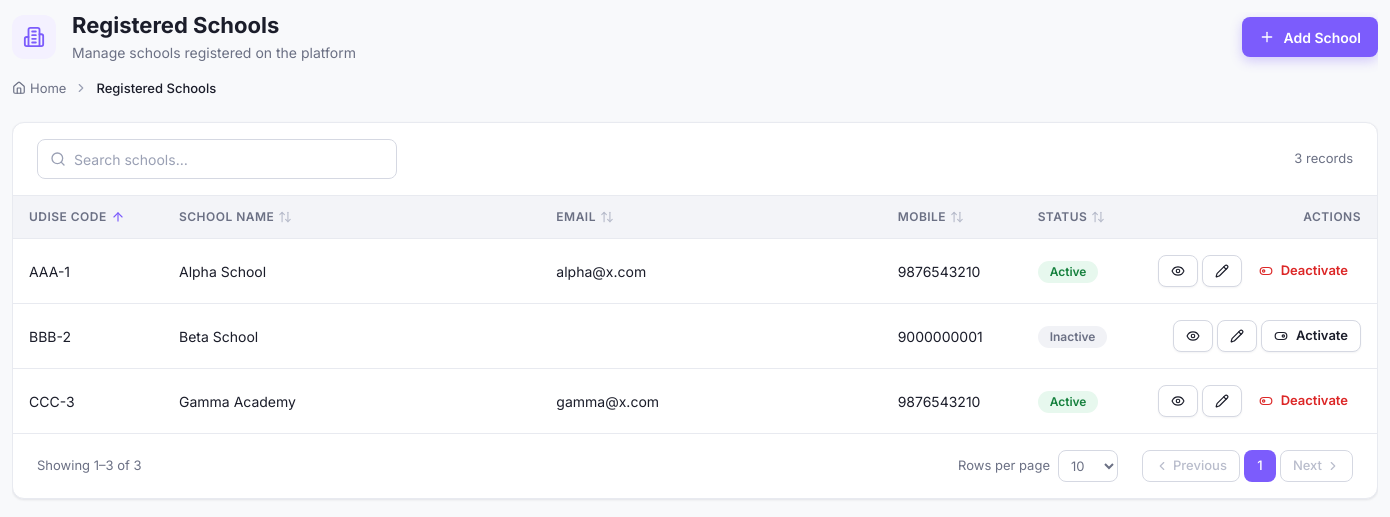
Test: SchoolListComponent › sorts when a sortable header is clicked
What coordinates should you click on to do the following:
click the button with class "sort" showing "School Name"
I would click on:
 (236, 217)
Its box is [179,208,292,226].
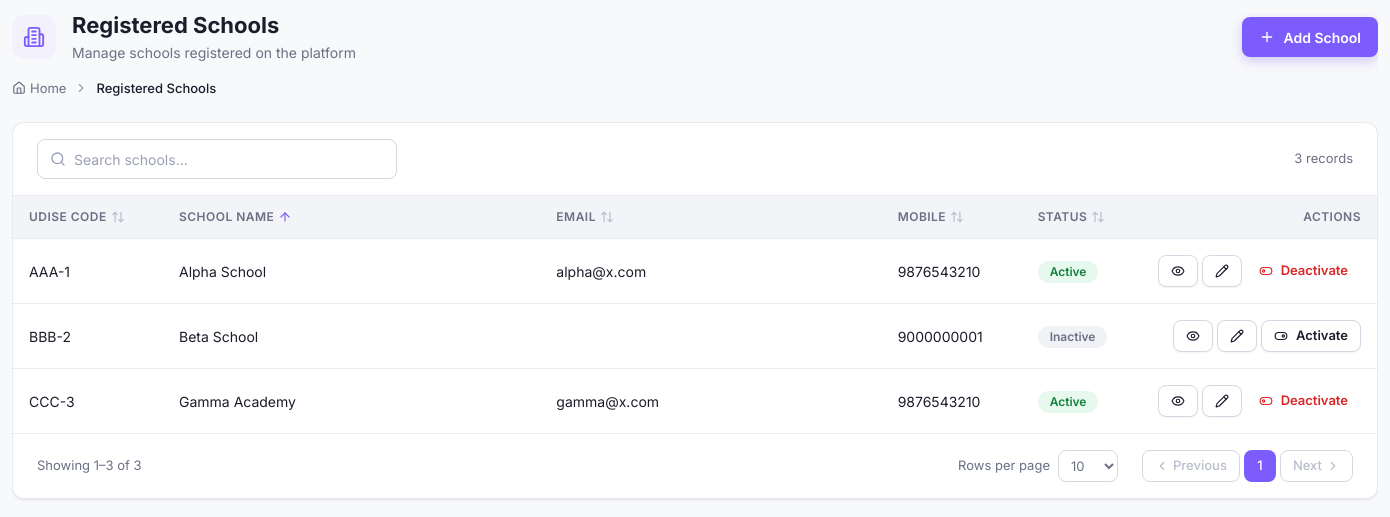
Expected: the row "AAA-1 Alpha School alpha@x.com 9876543210 Active Deactivate" is shown, [13,238,1377,304]
What coordinates should you click on to do the following:
click the button with class "sort" showing "School Name"
I would click on:
 (236, 217)
Its box is [179,208,292,226].
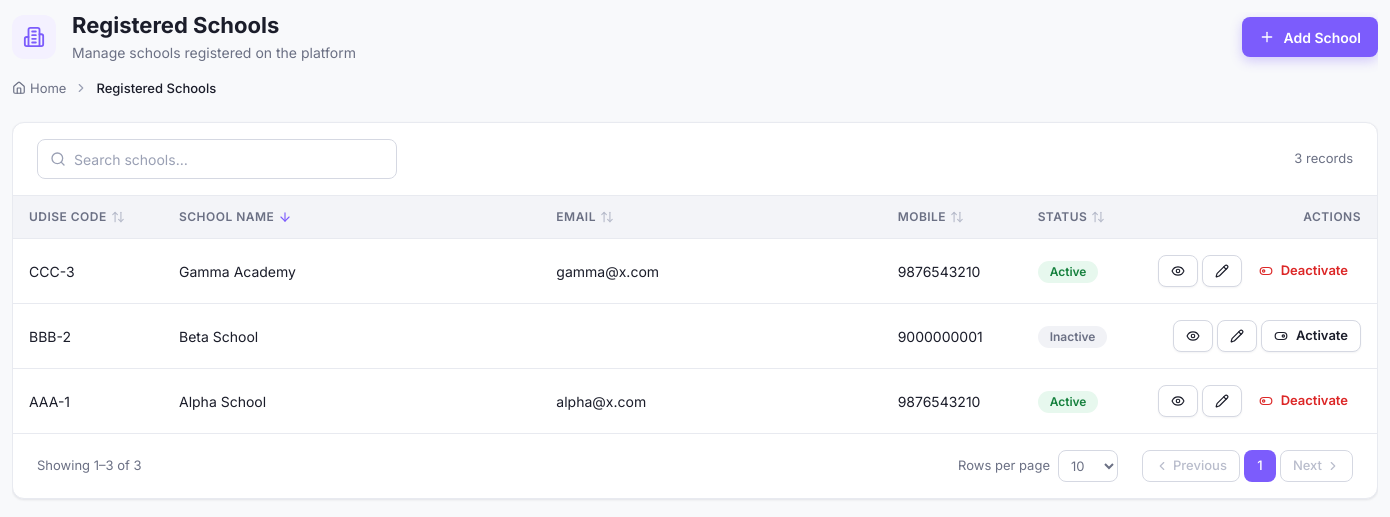
Result: the row "CCC-3 Gamma Academy gamma@x.com 9876543210 Active Deactivate" is shown at [13,238,1377,304]
